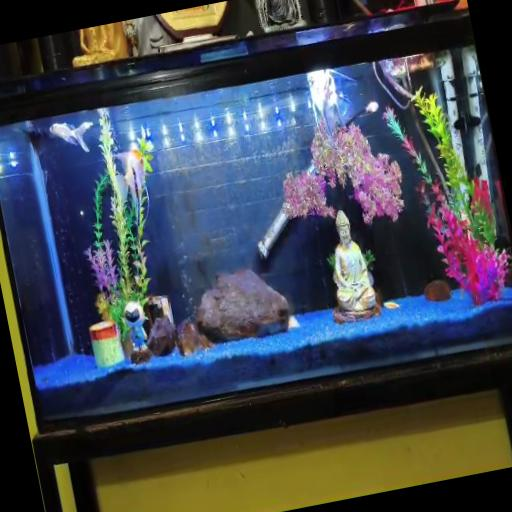Fish: (115, 149, 145, 222), (50, 122, 93, 152), (14, 121, 50, 153), (384, 302, 399, 310)
